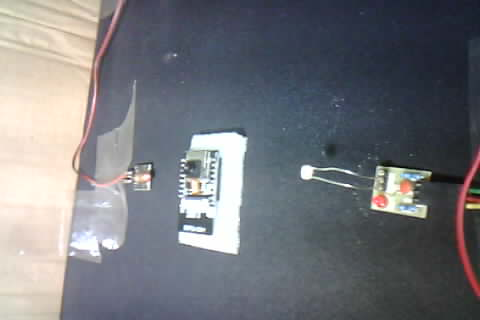esp32: (175, 132, 248, 256)
